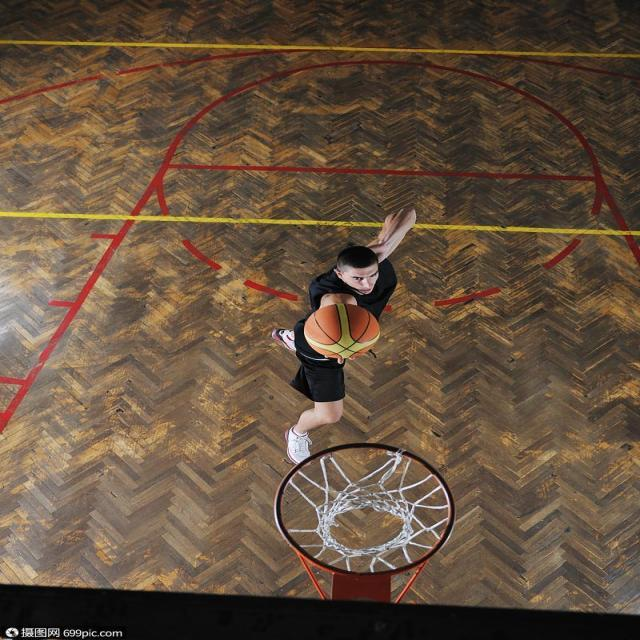rim: (302, 305, 379, 359)
